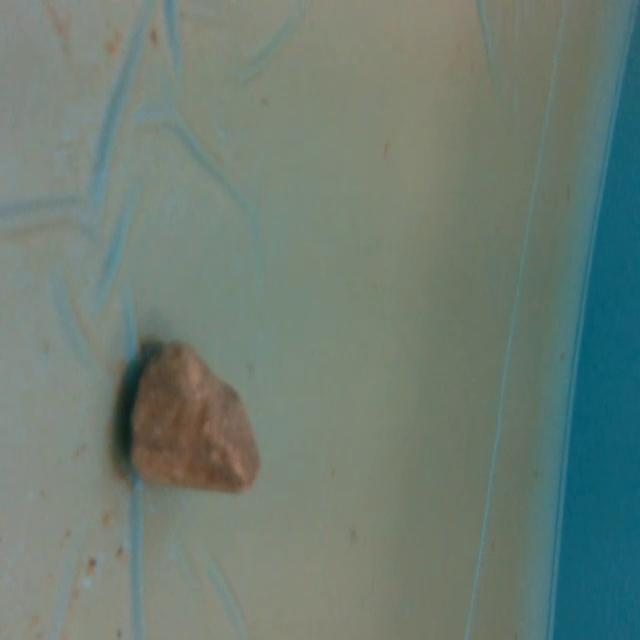rock: (125, 337, 270, 503)
